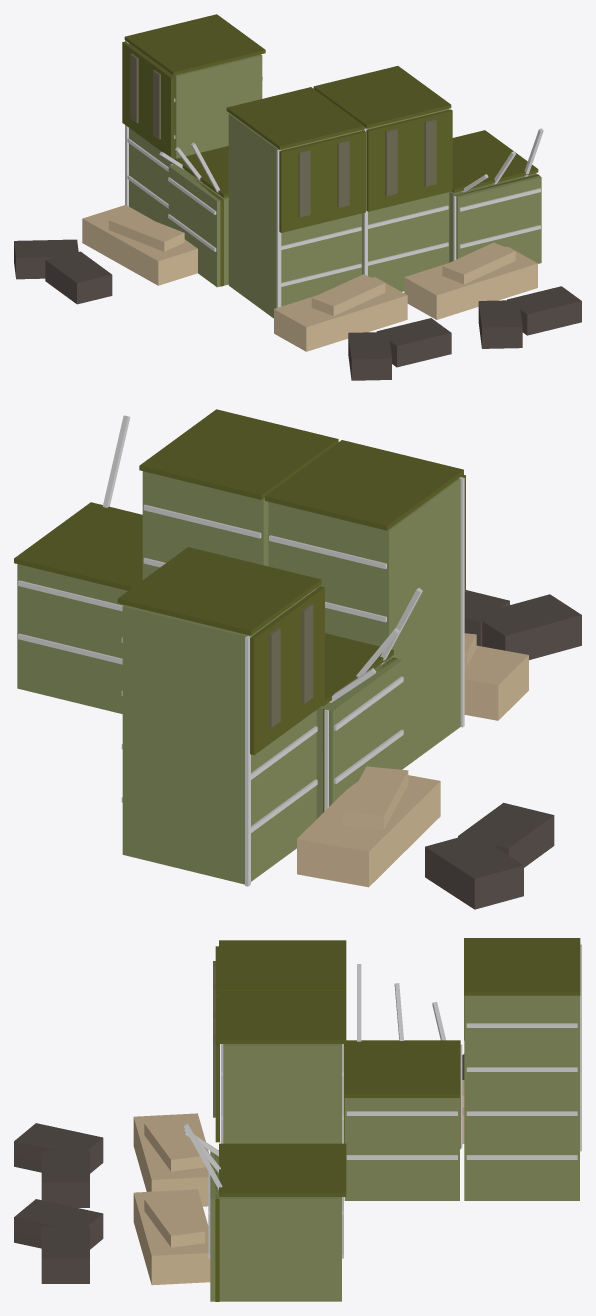
The model's file is SM_HescoEsquina_v4_Red_e1_Danado_LOD0.fbx.
The picture shows the model from 3 angles, top to bottom: view 1: azimuth 30°, elevation 25°; view 2: azimuth 150°, elevation 25°; view 3: azimuth 270°, elevation 25°; orthographic projection. The views are drawn at different scales.
Visible parts, largest first — view 1: SM_hesco_piezas_v17_LOD0; view 2: SM_hesco_piezas_v17_LOD0; view 3: SM_hesco_piezas_v17_LOD0.
Boxes of the visible parts, <box> form: SM_hesco_piezas_v17_LOD0: <box>14,14,581,380</box>; SM_hesco_piezas_v17_LOD0: <box>14,409,581,909</box>; SM_hesco_piezas_v17_LOD0: <box>14,938,581,1301</box>.
Size of the model in its own units: 5.25 by 2.16 by 5.27.
